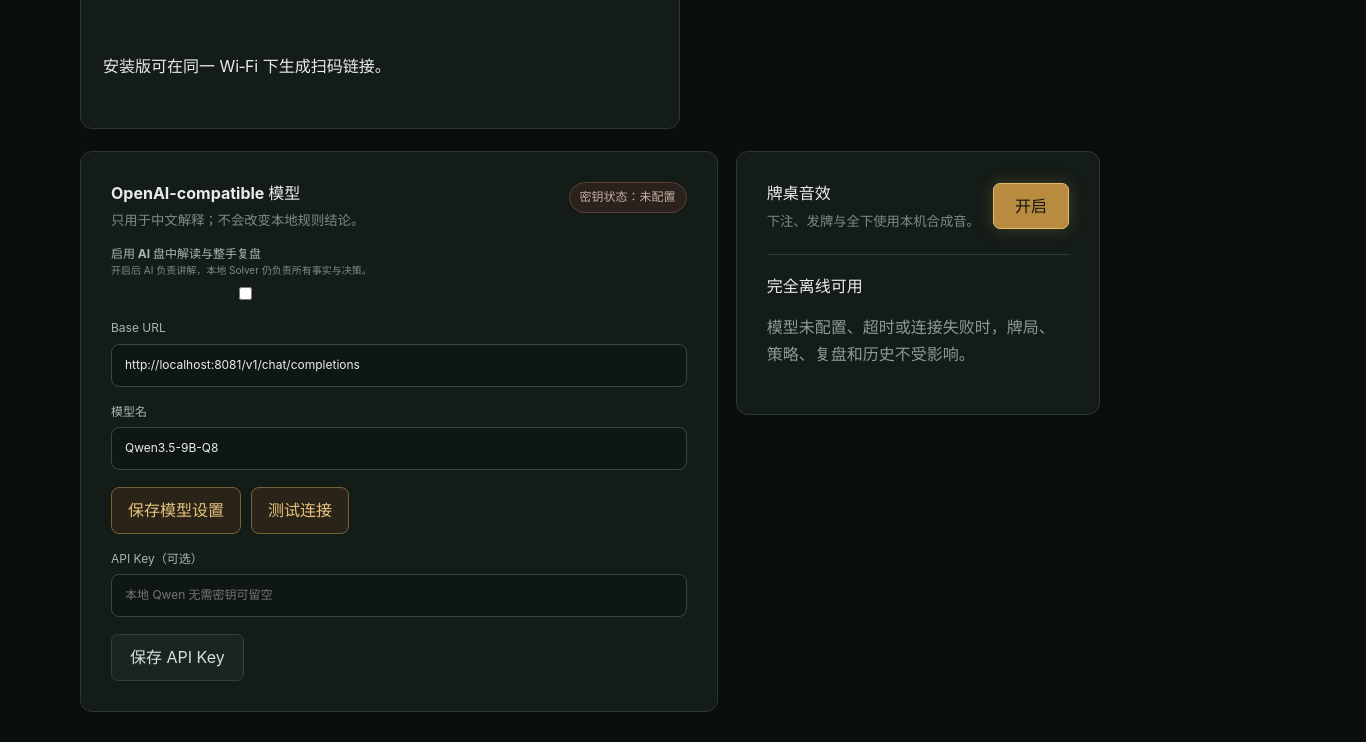
Test: SettingsPage › saves Base URL/model separately from a write-only API key
This screenshot has width=1366, height=742.
(page scrolled)
Check: the field labelled "模型名" holds "Qwen3.5-9B-Q8", box [111,427,687,470]
Replace the text in the field labelled "Base URL" with "http://localhost:9000" at (399, 365), box [111,344,687,387]
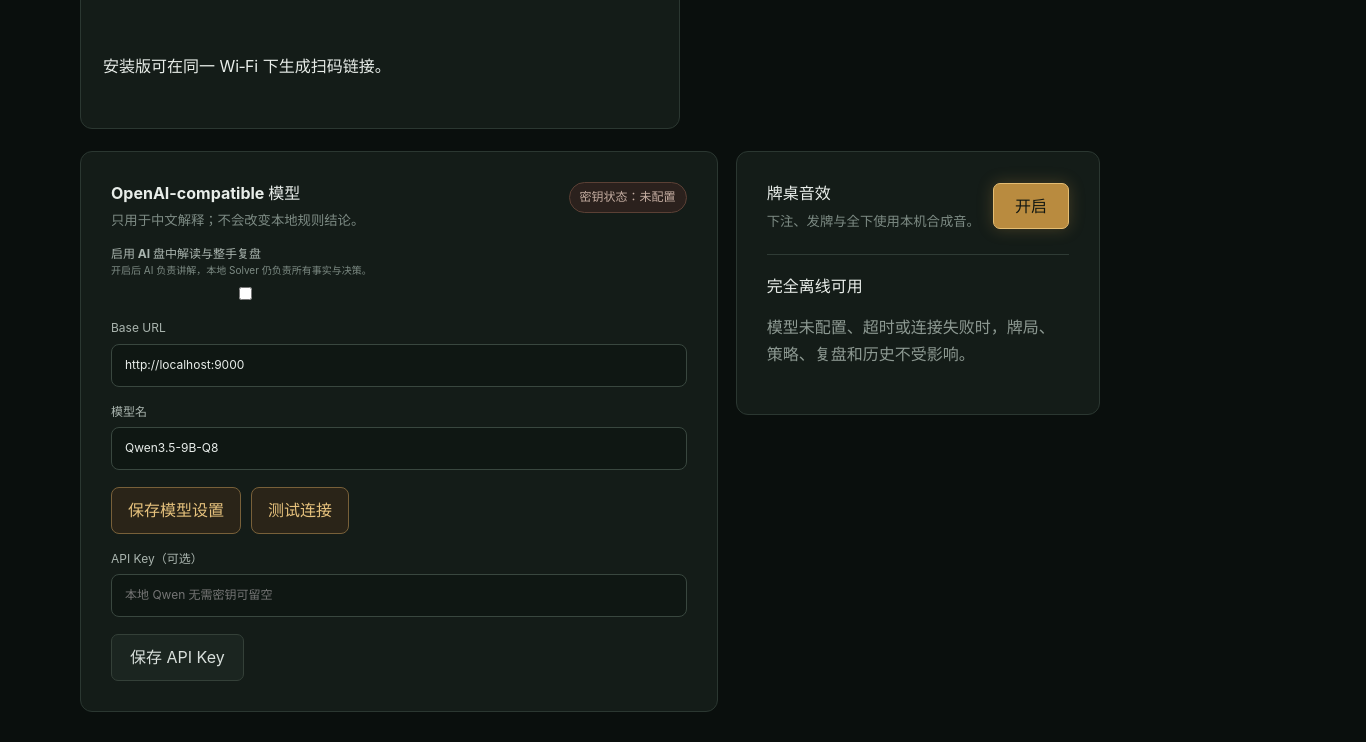
Replace the text in the field labelled "模型名" with "new-model" at (399, 449), box [111,427,687,470]
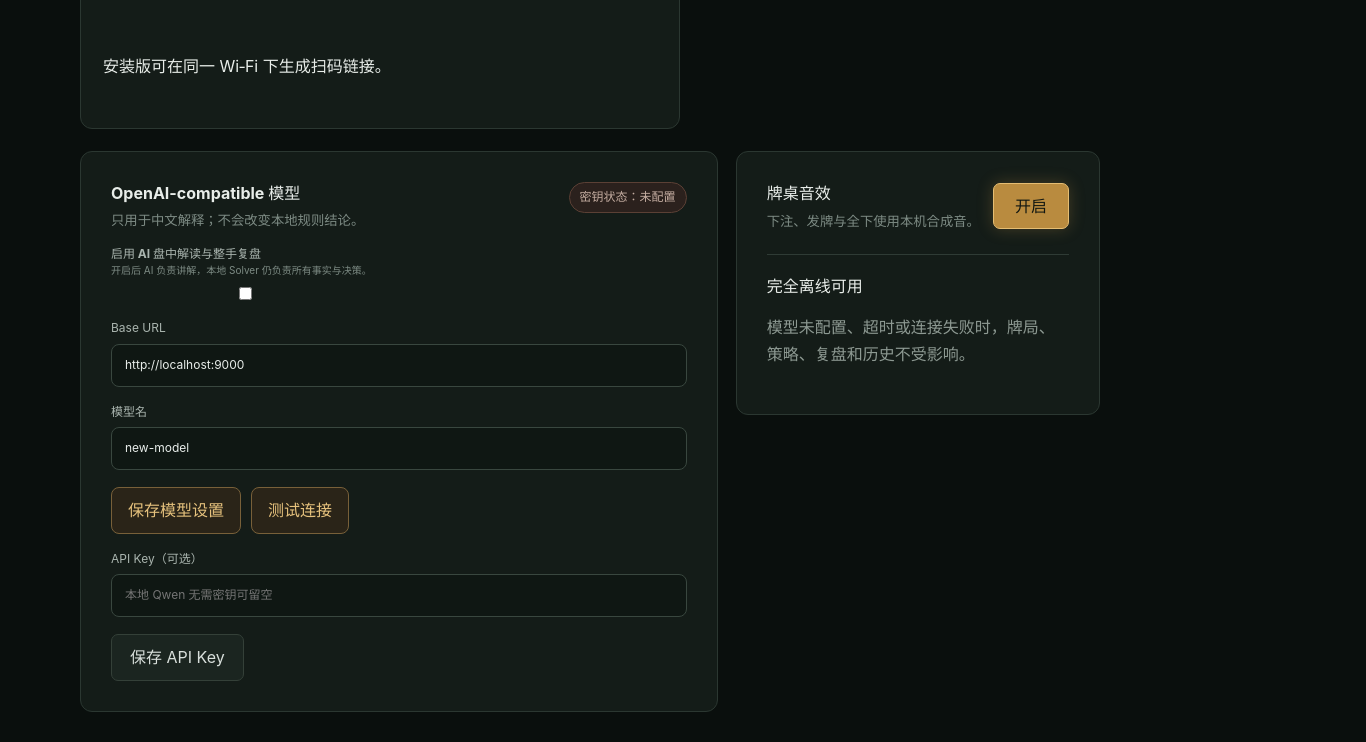
Click the button "保存模型设置" at (176, 510), box [111,487,241,534]
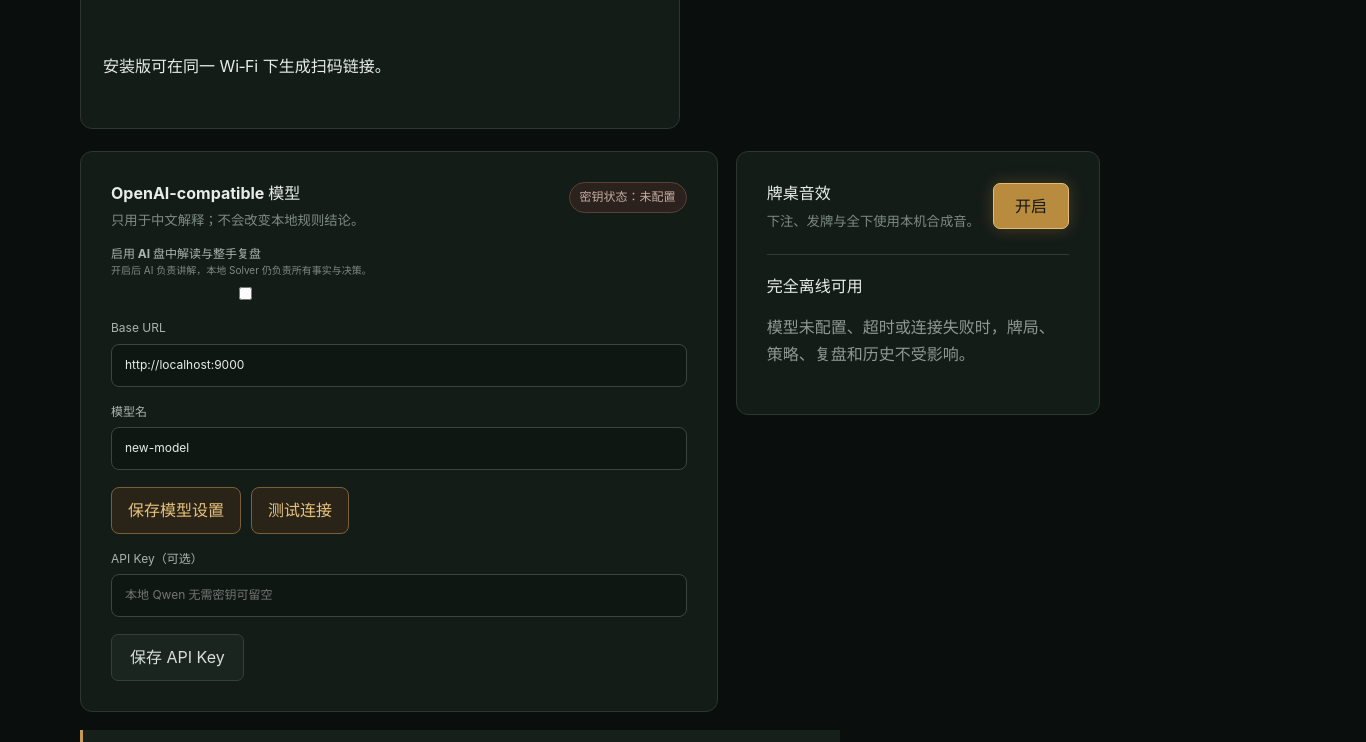
Click the button "保存 API Key" at (177, 657), box [111,634,244,680]
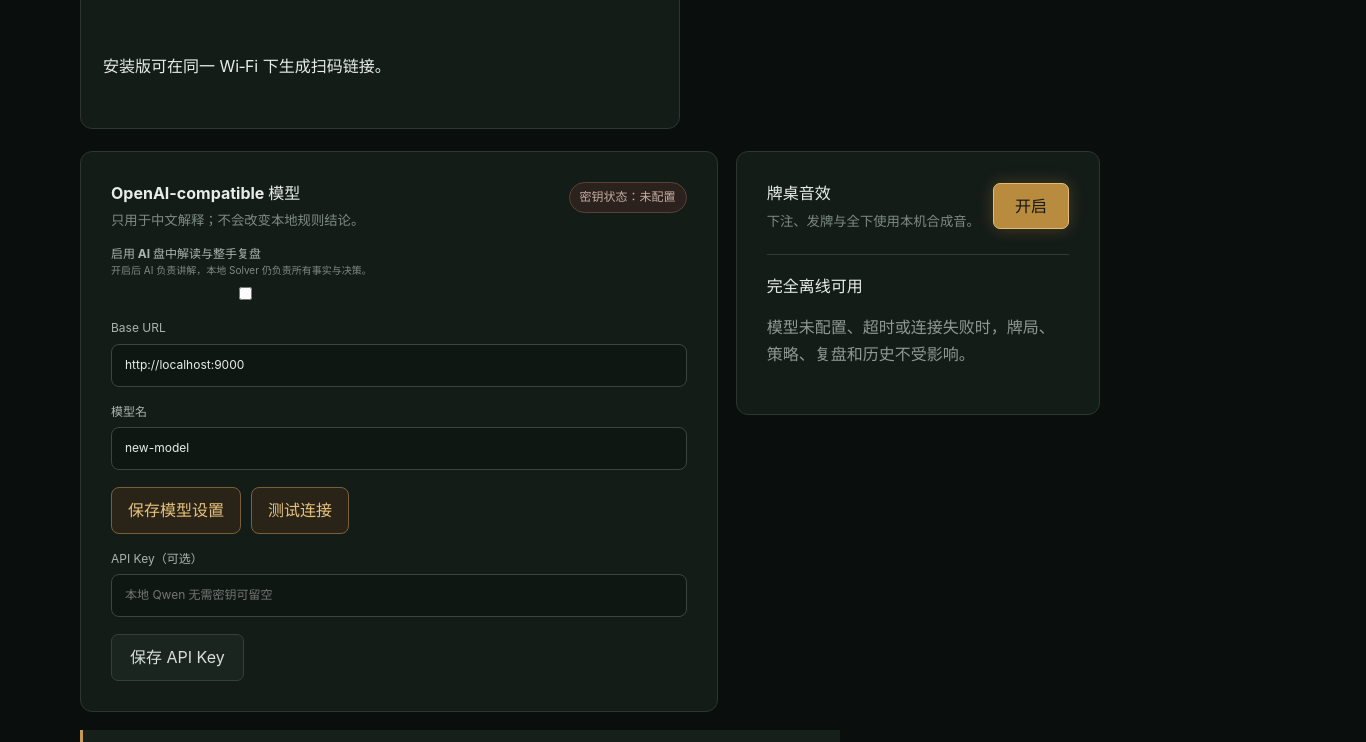
Type "SENTINEL-DESKTOP-SECRET" into the password field labelled "API Key" at (399, 596), box [111,574,687,617]
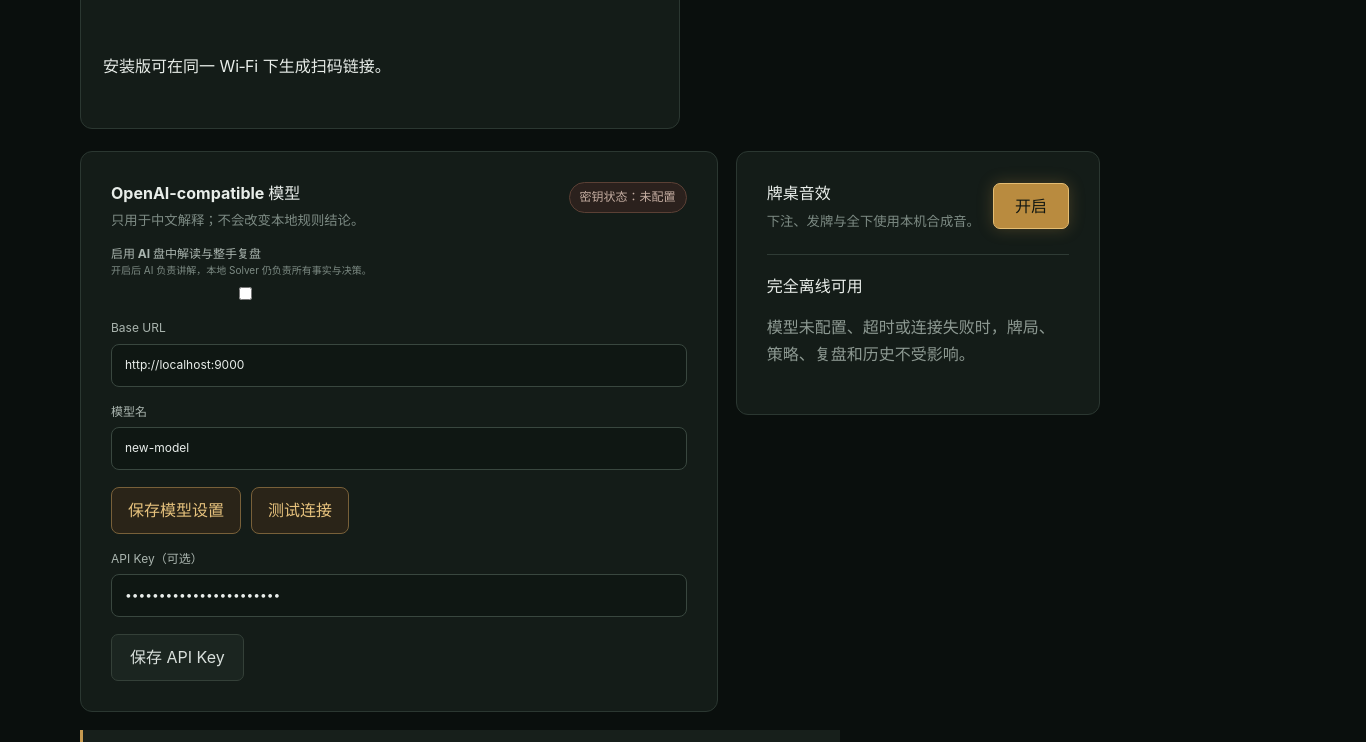
Click the button "保存 API Key" at (177, 657), box [111,634,244,680]
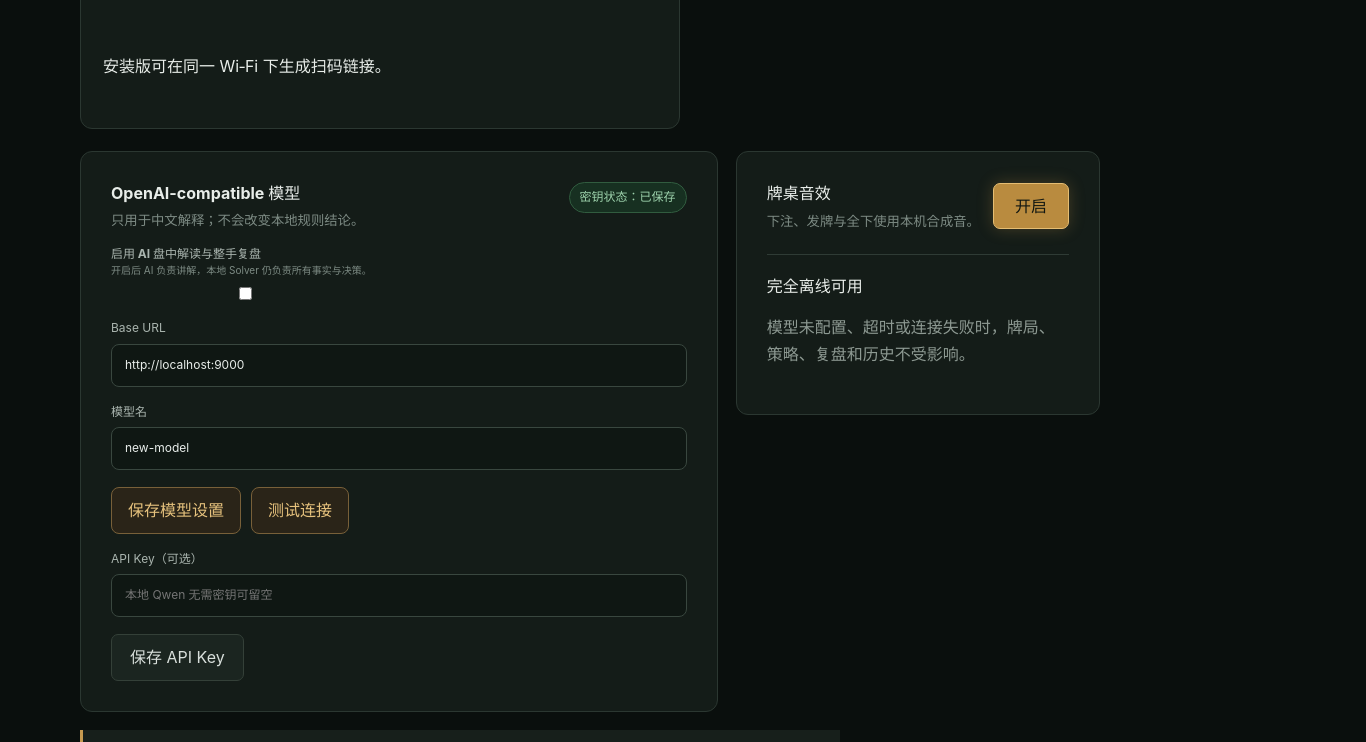
Check: the text "密钥状态：已保存" is shown, box [569,182,687,213]
Check: the password field labelled "API Key" is empty, box [111,574,687,617]
